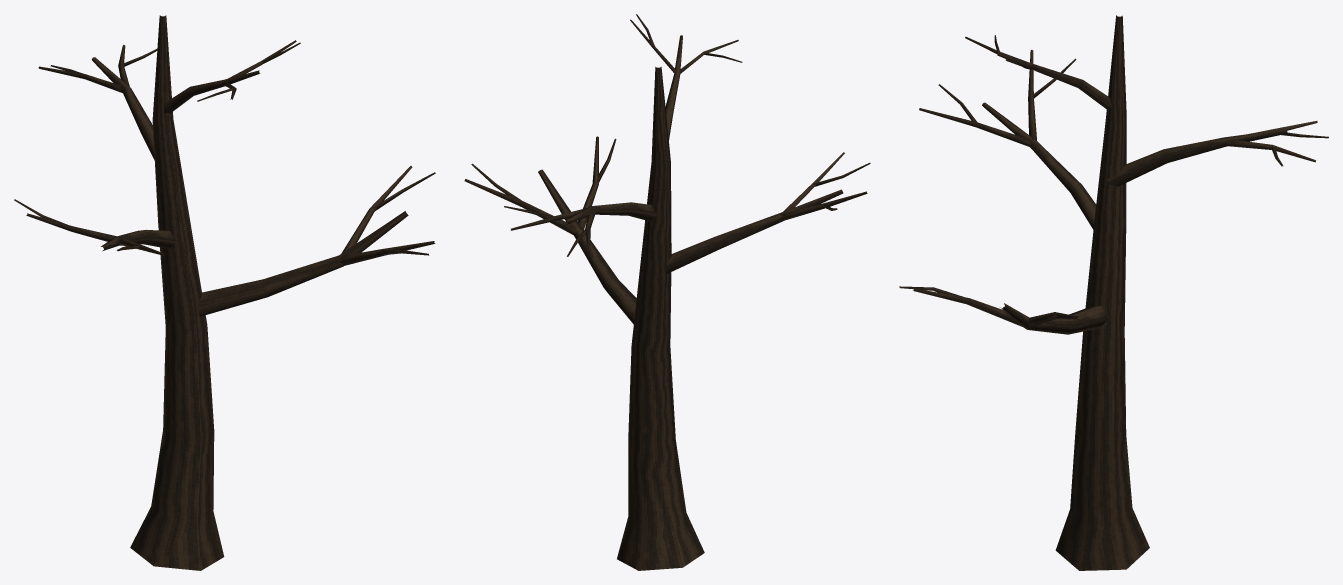
The model's file is dead_tree.glb.
The picture shows the model from 3 angles, left to right: view 1: azimuth 30°, elevation 25°; view 2: azimuth 150°, elevation 25°; view 3: azimuth 270°, elevation 25°; orthographic projection. The views are drawn at different scales.
Visible parts, largest first — view 1: trunk-col, branches; view 2: trunk-col, branches; view 3: trunk-col, branches.
Part boxes in pixels (x1,y1,x2,y2): trunk-col: (130, 15, 224, 570); branches: (14, 40, 435, 316); trunk-col: (617, 66, 704, 570); branches: (464, 14, 870, 324); trunk-col: (1055, 15, 1149, 570); branches: (899, 35, 1328, 334).
Size of what is drawn, in the model's own units: 5.08 by 6.25 by 4.55.
1 material, 1 textured.
